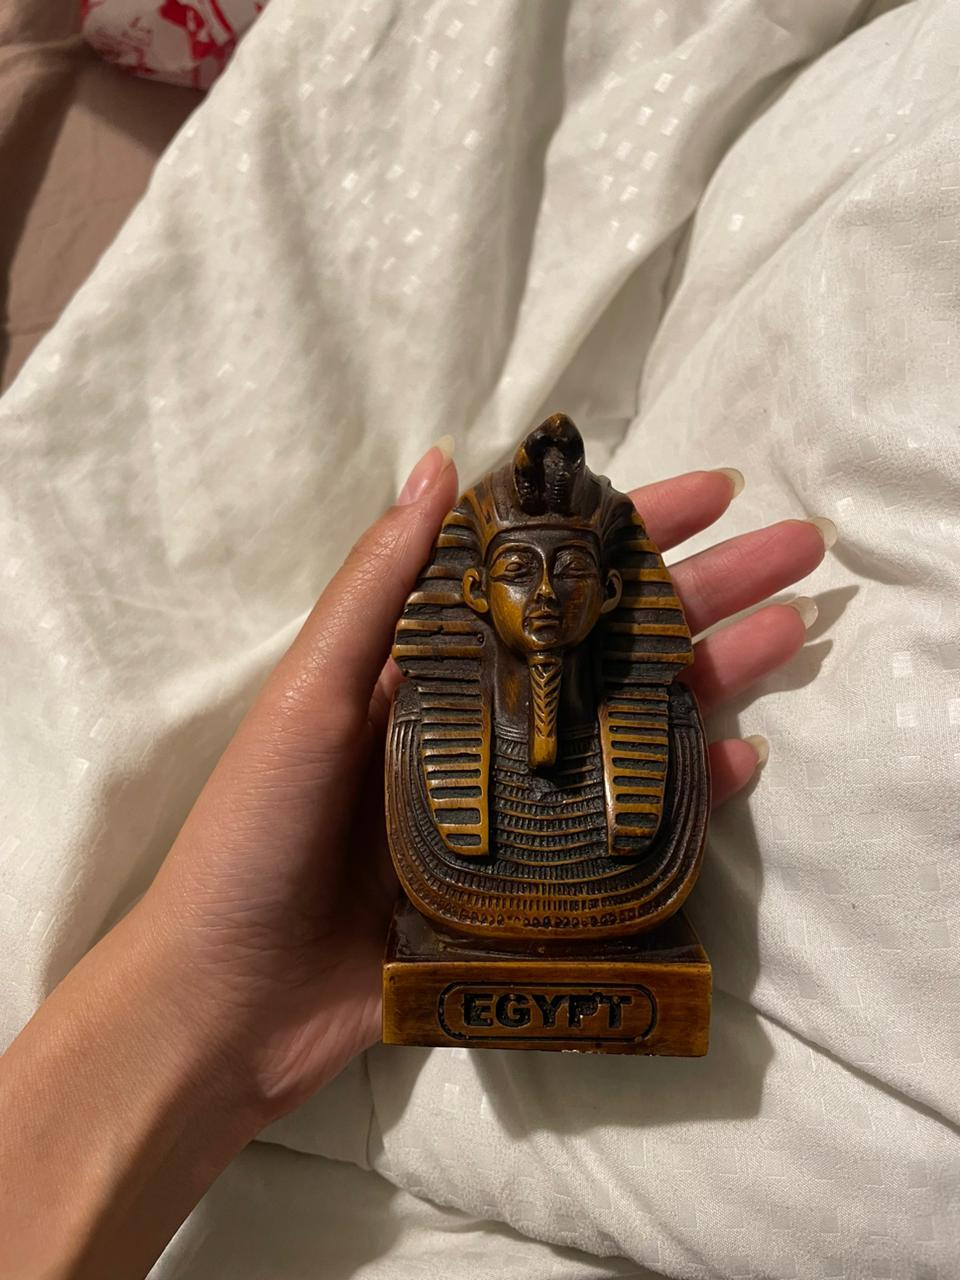Tut: (376, 411, 714, 1058)
